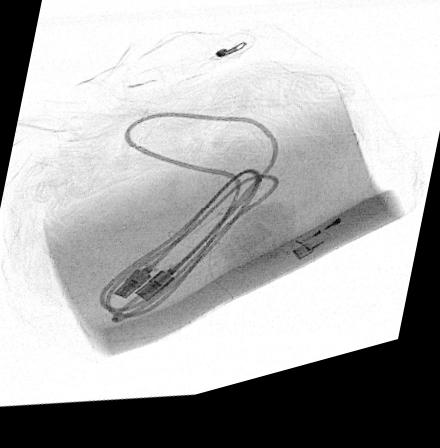Lighter: (289, 215, 385, 277)
